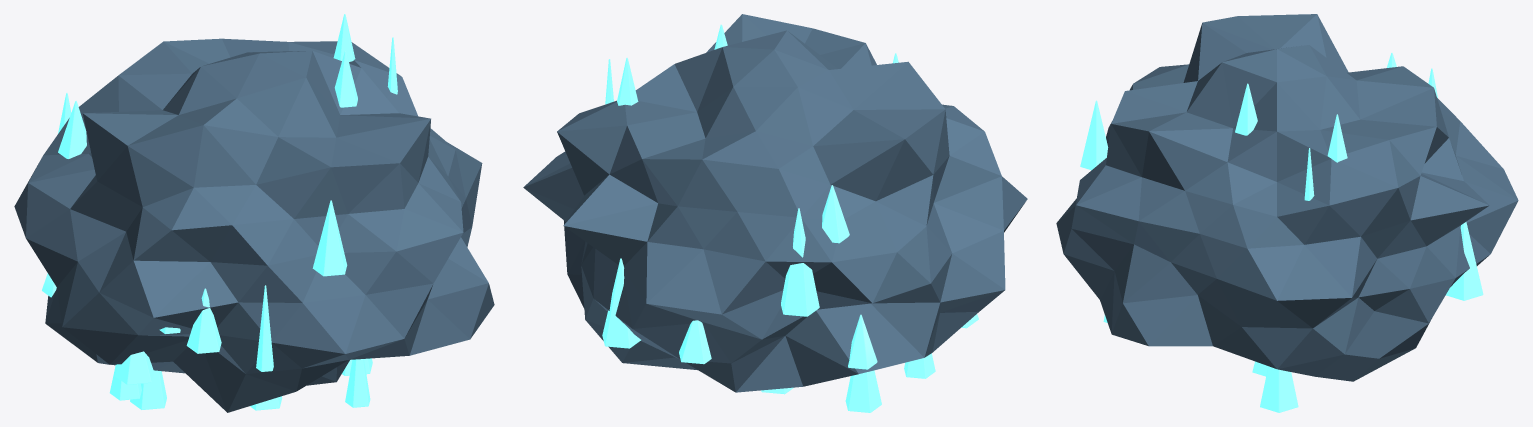
The model's file is ore_crystal.glb.
The picture shows the model from 3 angles, left to right: view 1: azimuth 30°, elevation 25°; view 2: azimuth 150°, elevation 25°; view 3: azimuth 270°, elevation 25°; orthographic projection. The views are drawn at different scales.
Parts seen in each view (by area): view 1: council_dark.005, ore_crystal_vein; view 2: council_dark.005, ore_crystal_vein; view 3: council_dark.005, ore_crystal_vein.
Part boxes in pixels (x1,y1,x2,y2): council_dark.005: (14, 38, 494, 412); ore_crystal_vein: (42, 14, 397, 410); council_dark.005: (523, 14, 1027, 392); ore_crystal_vein: (602, 24, 978, 412); council_dark.005: (1056, 14, 1518, 381); ore_crystal_vein: (1080, 53, 1483, 412).
Bounding box in the file's own units: 49.11 × 37.05 × 48.43.
